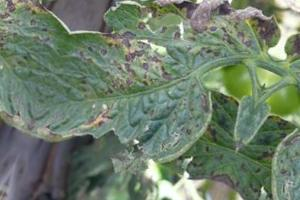Tomato Septoria leaf spot: (26, 0, 287, 200)
